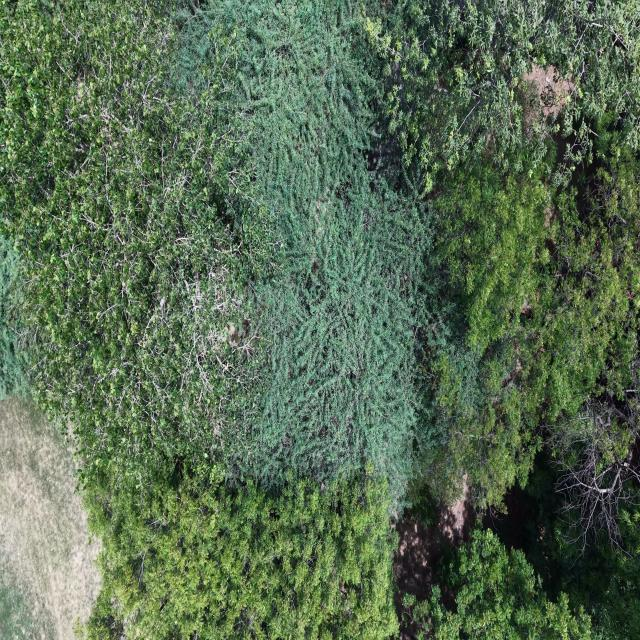DRY_AREA: (0, 398, 98, 639), (394, 476, 475, 615), (524, 64, 575, 118)
VEGETATION_TREE: (0, 0, 639, 639), (184, 2, 430, 501), (0, 2, 242, 483), (432, 159, 639, 505), (235, 186, 425, 501), (89, 468, 397, 639), (365, 0, 639, 191), (428, 168, 550, 506), (487, 454, 639, 639), (404, 530, 591, 639), (0, 236, 28, 399)
